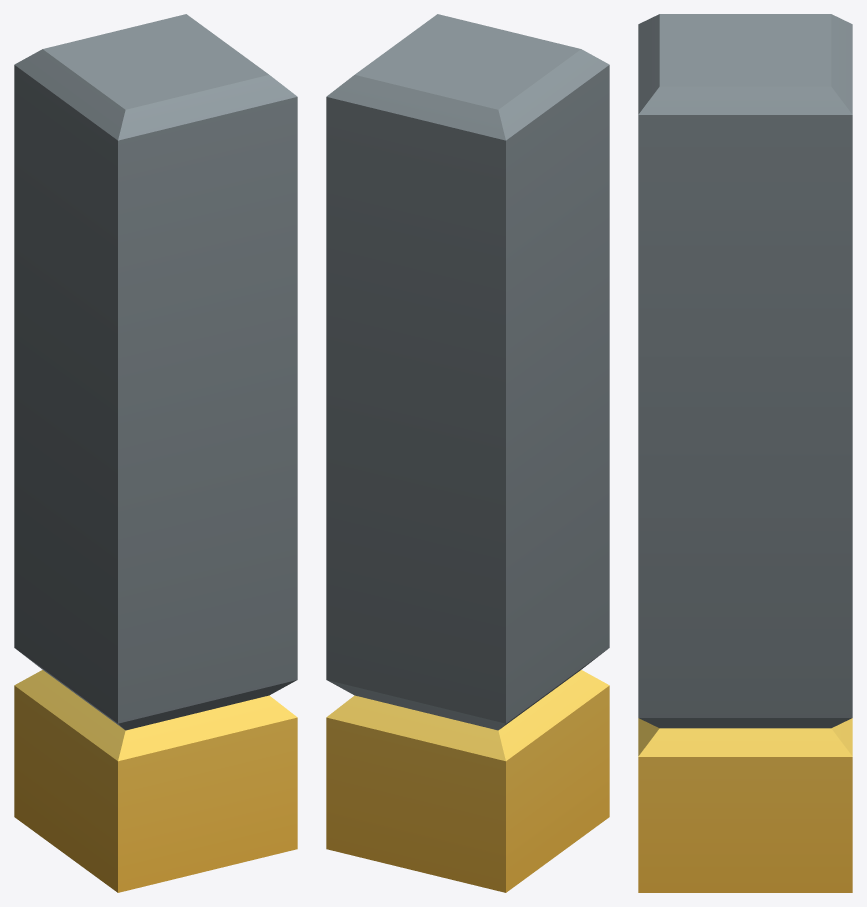
File: Pillar_B.glb
3 renders of one model, left to right at view 1: azimuth 30°, elevation 25°; view 2: azimuth 150°, elevation 25°; view 3: azimuth 270°, elevation 25°, orthographic. The views are drawn at different scales.
Parts seen in each view (by area): view 1: Pillar_B; view 2: Pillar_B; view 3: Pillar_B.
Boxes of the visible parts, x1,y1,x2,y2 form: Pillar_B: [14, 14, 297, 892]; Pillar_B: [326, 14, 609, 892]; Pillar_B: [638, 14, 852, 892].
Size of the model in its own units: 1 by 4.1 by 1.
1 material, 1 textured.
